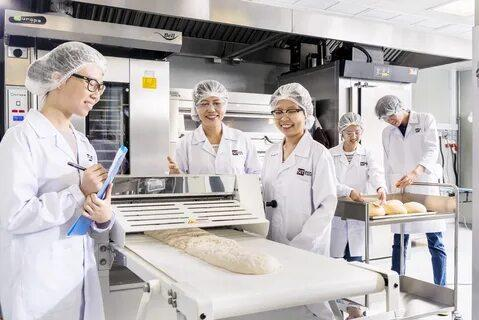hairnet: (21, 36, 122, 129), (258, 76, 320, 149), (196, 59, 237, 134), (366, 81, 413, 137), (328, 109, 373, 147)
